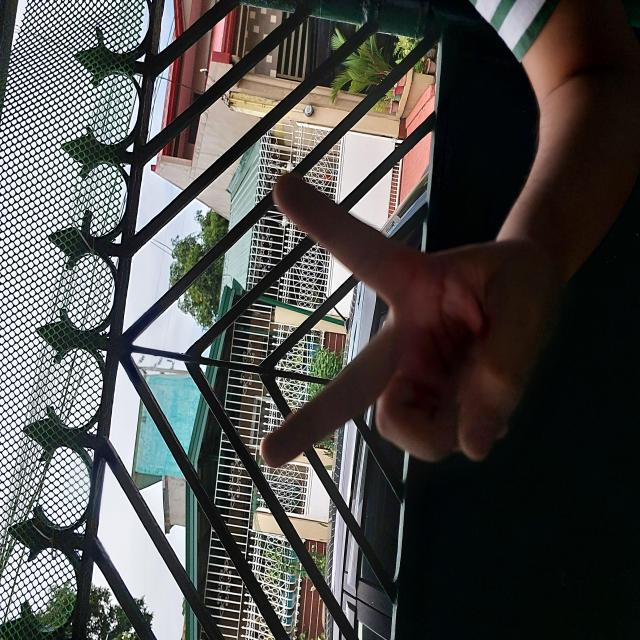V: (168, 258, 470, 556)
